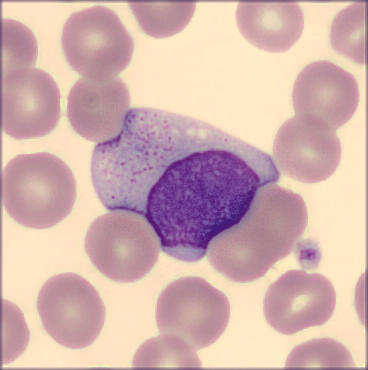WBC: (89, 104, 284, 274)
